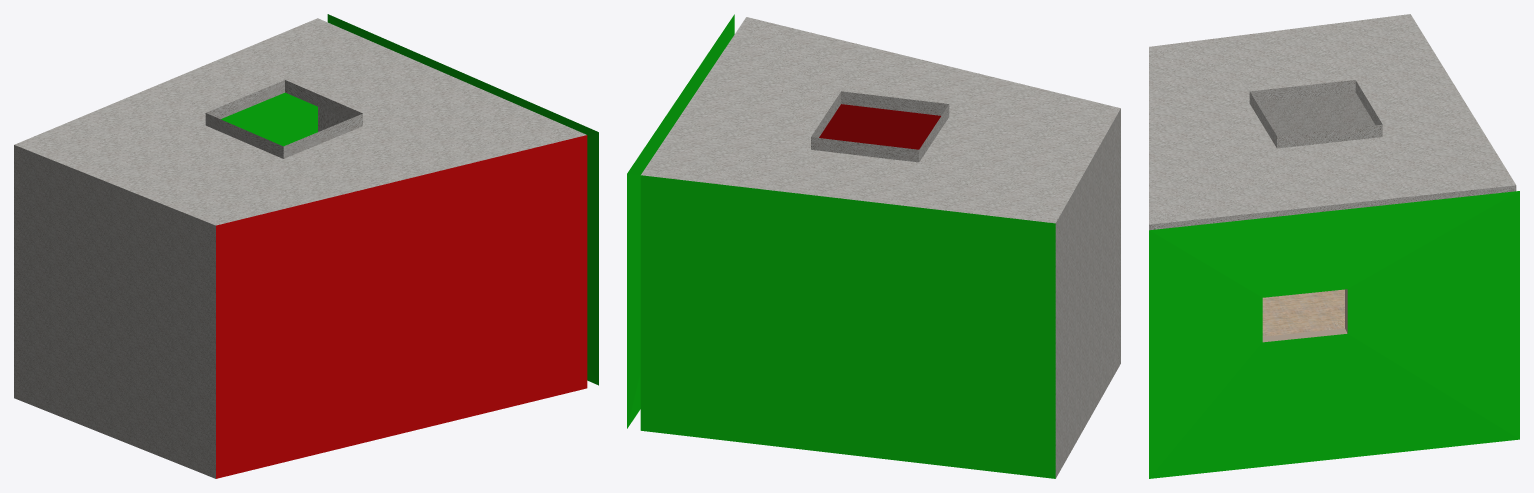
File: Room2.fbx
3 renders of one model, left to right at view 1: azimuth 30°, elevation 25°; view 2: azimuth 150°, elevation 25°; view 3: azimuth 270°, elevation 25°, orthographic. The views are drawn at different scales.
Parts seen in each view (by area): view 1: Room2; view 2: Room2; view 3: Room2.
Boxes of the visible parts, x1,y1,x2,y2 form: Room2: [14, 14, 598, 478]; Room2: [627, 14, 1120, 478]; Room2: [1149, 14, 1519, 478].
Bounding box in the file's own units: 468 × 264 × 339.
